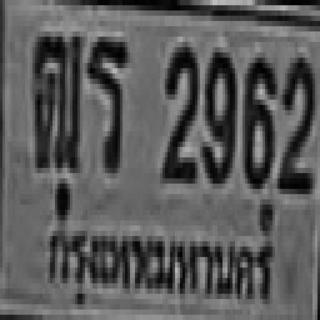A18: (30, 26, 80, 168)
A35: (86, 31, 126, 168)
N02: (160, 42, 198, 178), (275, 52, 312, 189)
N06: (242, 52, 275, 184)
N09: (200, 47, 235, 178)
P04: (45, 219, 278, 320)
